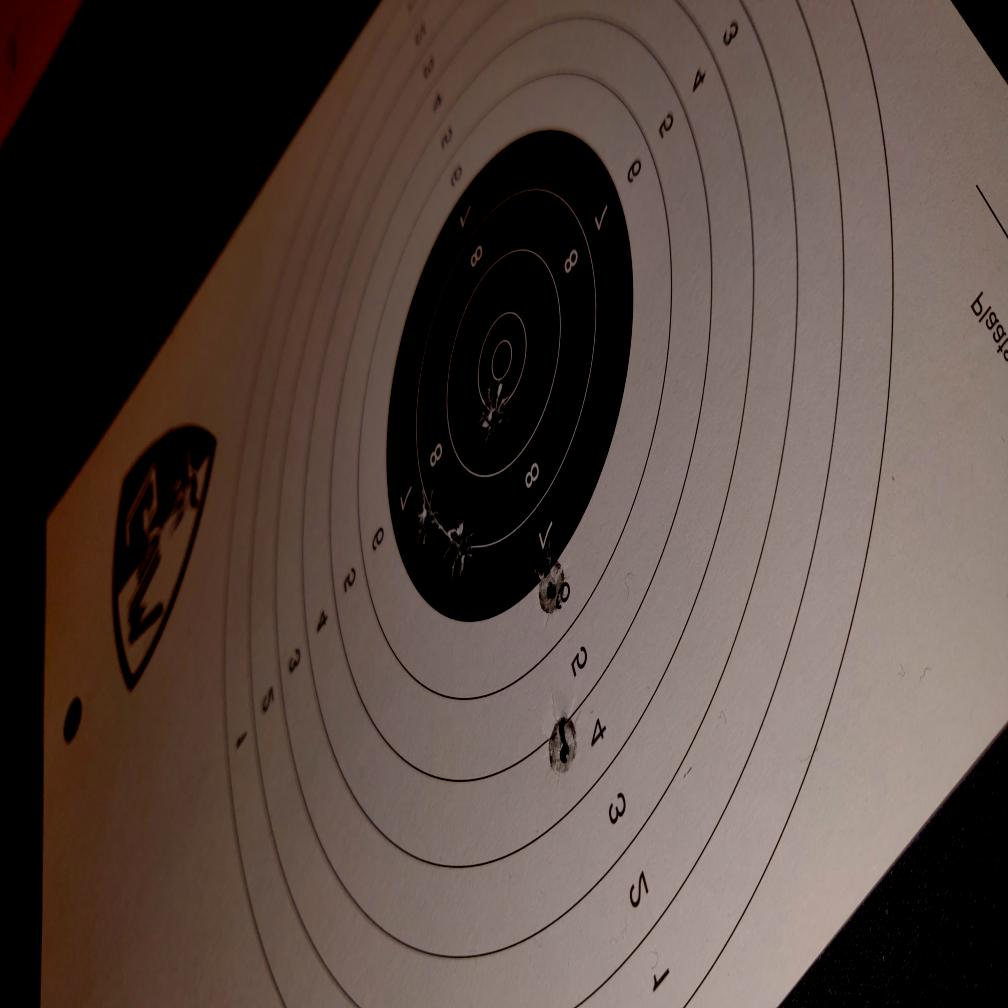10: (480, 388, 504, 442)
5: (546, 709, 577, 783)
7: (535, 554, 565, 617)
8: (444, 519, 476, 585), (412, 483, 439, 552)
Target: (222, 0, 895, 1008)
black_contour: (386, 124, 635, 623)
